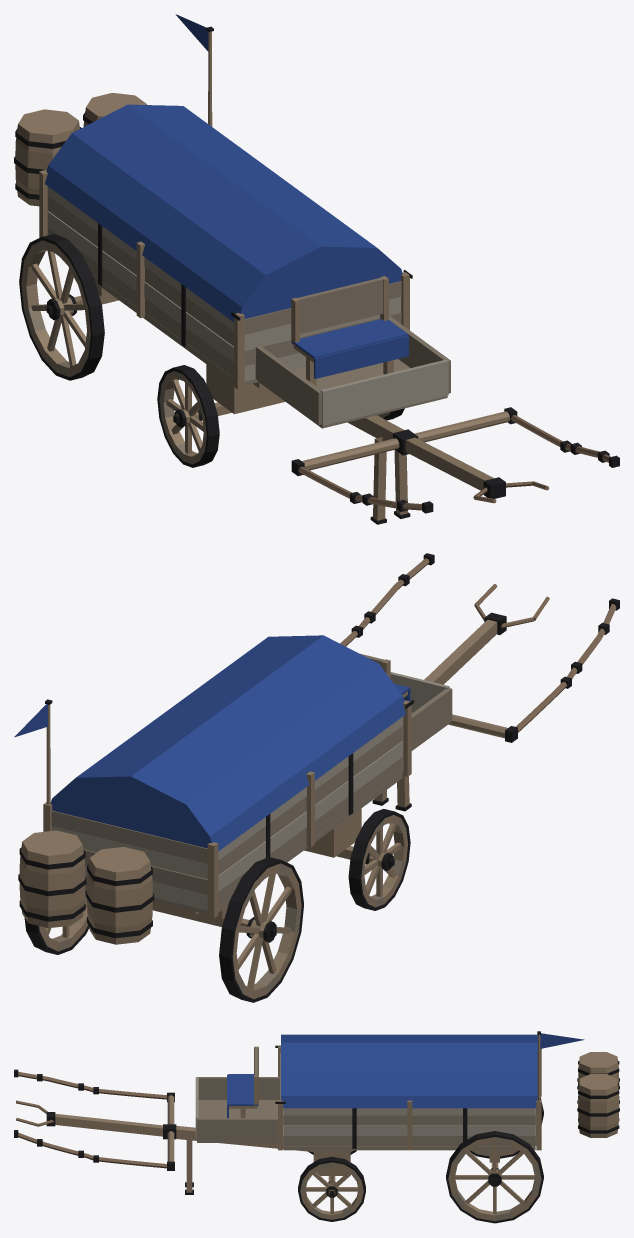
The model's file is karren_pferd_gross.glb.
3 renders of one model, top to bottom at view 1: azimuth 30°, elevation 25°; view 2: azimuth 150°, elevation 25°; view 3: azimuth 270°, elevation 25°, orthographic. The views are drawn at different scales.
Visible parts, largest first — view 1: Plane, Karren, Vorderwagen, Rad_HR, Ladung3, Rad_VR, Decke, Stuetze; view 2: Plane, Karren, Ladung3, Rad_HR, Vorderwagen, Rad_VR, Rad_HL; view 3: Plane, Karren, Vorderwagen, Rad_HL, Ladung3, Rad_VL, Decke, Stuetze, Wimpel, Rad_HR.
Part boxes in pixels (bbox=[...]): Plane: bbox=[45, 104, 402, 322]; Karren: bbox=[39, 26, 450, 428]; Vorderwagen: bbox=[173, 364, 619, 513]; Rad_HR: bbox=[19, 234, 104, 380]; Ladung3: bbox=[14, 93, 146, 206]; Rad_VR: bbox=[157, 365, 219, 467]; Decke: bbox=[292, 319, 408, 378]; Stuetze: bbox=[370, 437, 410, 524]; Plane: bbox=[50, 635, 405, 851]; Karren: bbox=[43, 653, 452, 937]; Ladung3: bbox=[18, 830, 154, 944]; Rad_HR: bbox=[219, 857, 303, 1002]; Vorderwagen: bbox=[304, 553, 619, 867]; Rad_VR: bbox=[348, 809, 410, 910]; Rad_HL: bbox=[24, 894, 89, 954]; Plane: bbox=[281, 1034, 537, 1108]; Karren: bbox=[195, 1031, 541, 1183]; Vorderwagen: bbox=[14, 1069, 350, 1195]; Rad_HL: bbox=[446, 1131, 543, 1223]; Ladung3: bbox=[577, 1052, 619, 1137]; Rad_VL: bbox=[298, 1156, 365, 1221]; Decke: bbox=[227, 1074, 257, 1118]; Stuetze: bbox=[185, 1137, 193, 1194]; Wimpel: bbox=[540, 1033, 584, 1048]; Rad_HR: bbox=[470, 1097, 543, 1158].
Bounding box in the file's own units: 2.32 × 2.74 × 8.18.
